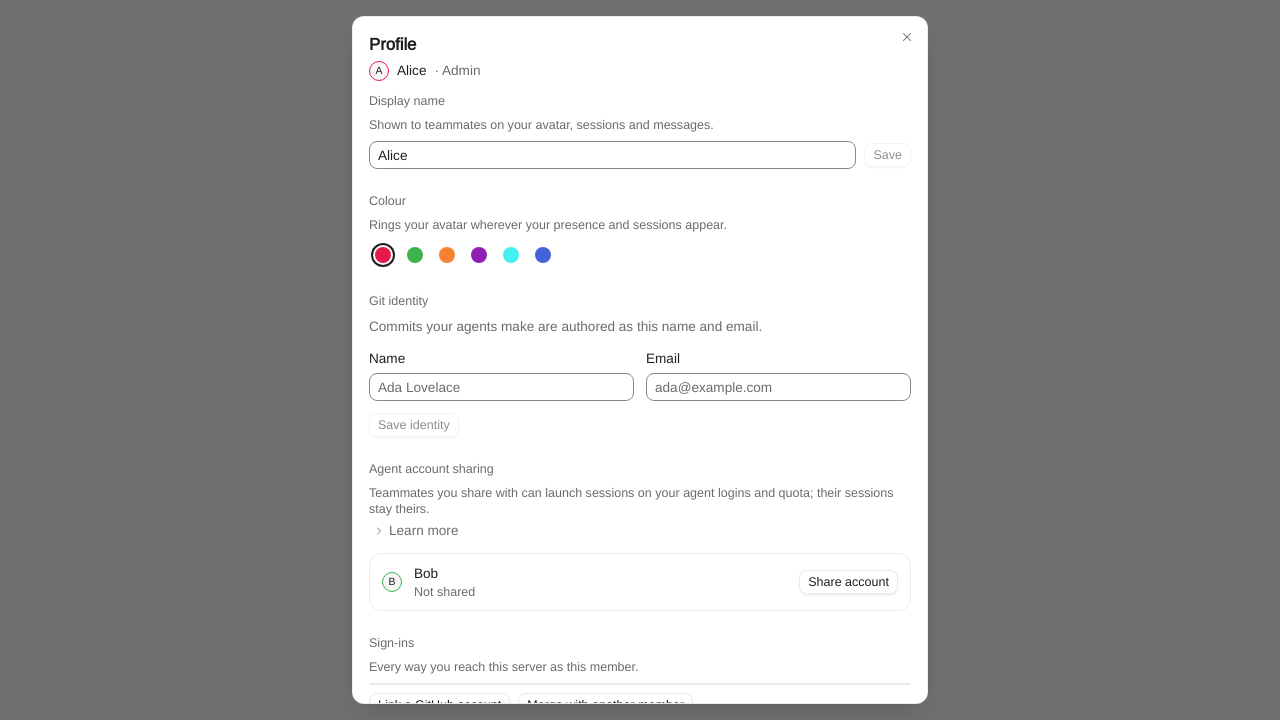
it: profile dialog › after a first share › drops the advice when the first share is revoked
Click the 4th button named "Share account".
click(849, 582)  # box [799, 570, 898, 594]
(page scrolled)
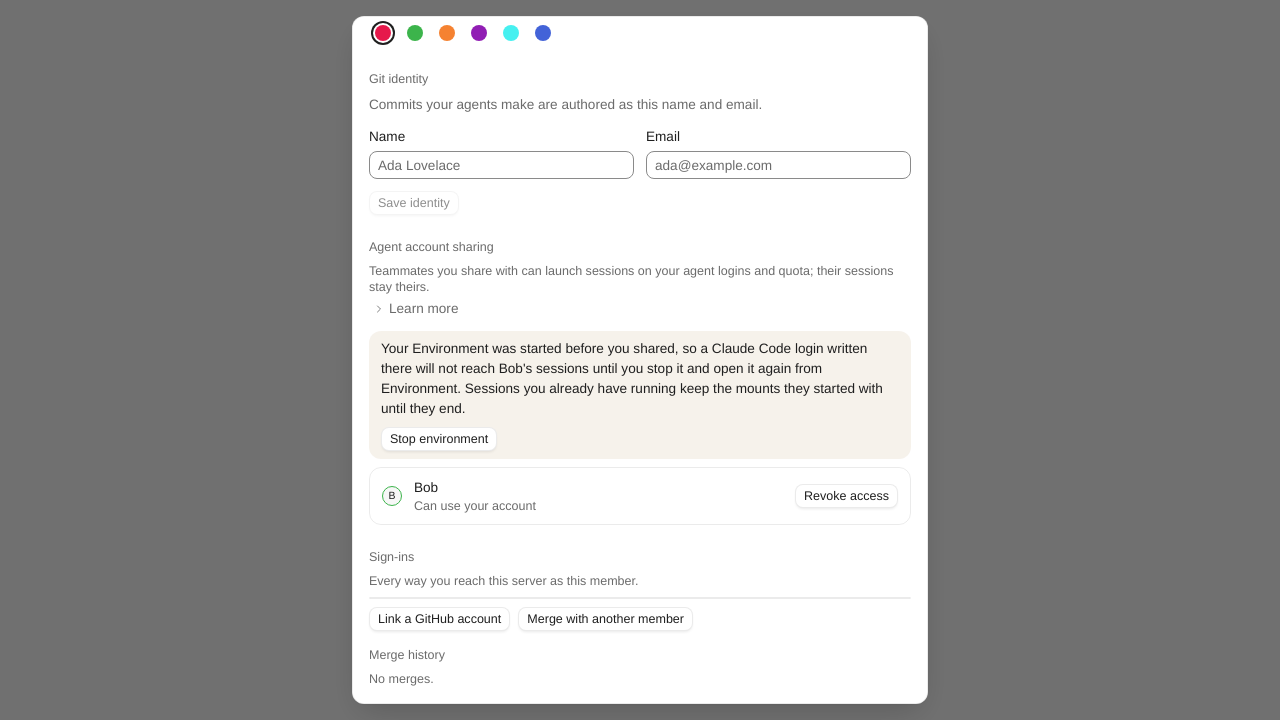
Check: the message is shown, box [369, 331, 911, 459]
Click the 4th button named "Revoke access".
click(846, 496)  # box [795, 484, 898, 508]
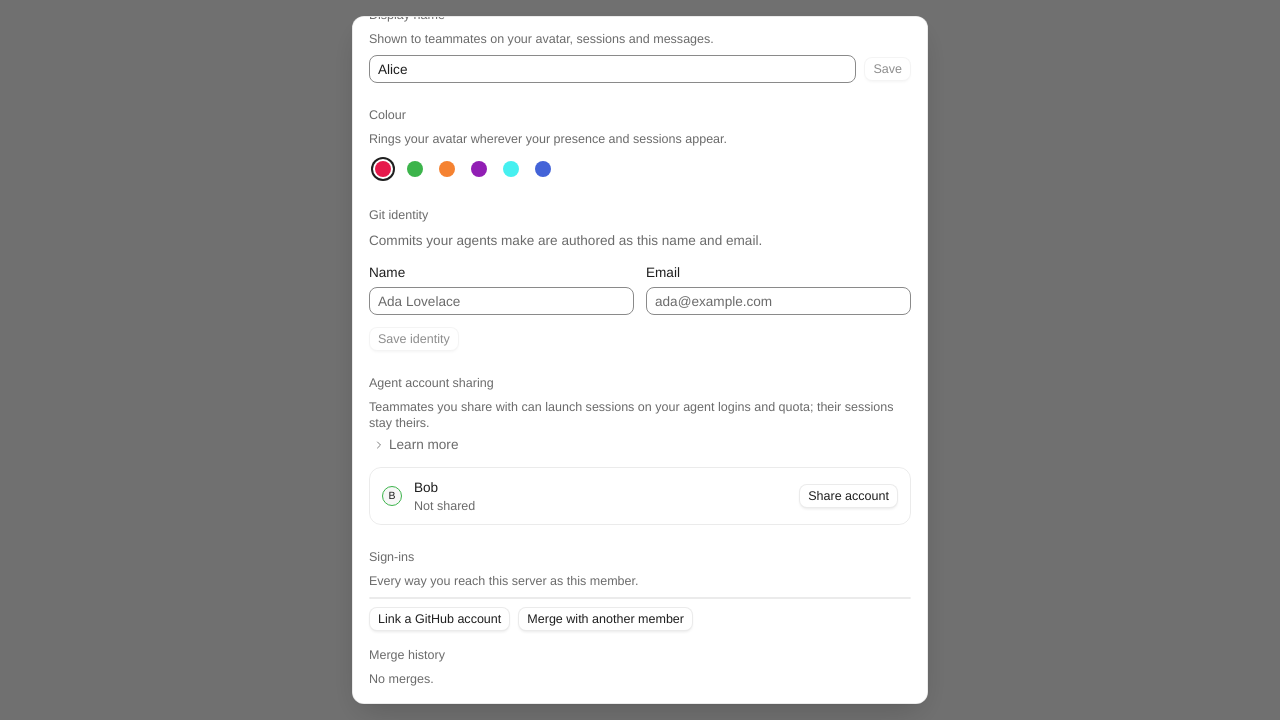
Check: the 4th button named "Share account" is shown, box [799, 484, 898, 508]
Check: the message is gone
